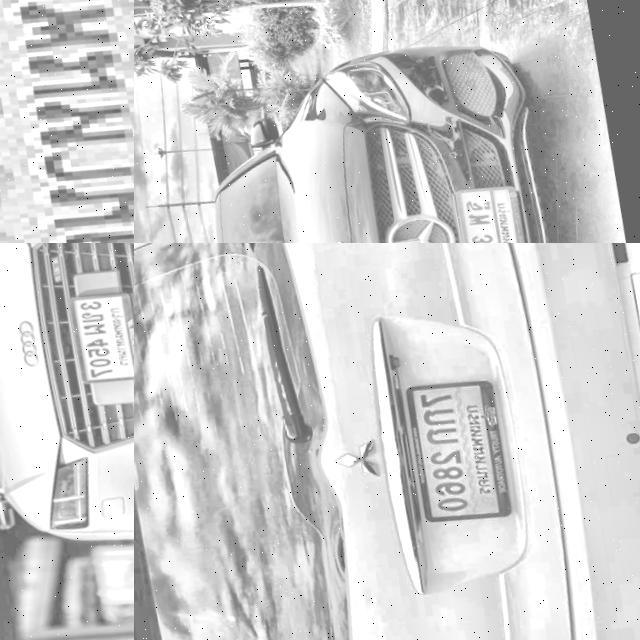license-plate: (0, 0, 134, 243), (399, 363, 519, 522), (62, 274, 134, 380), (448, 167, 536, 243)
